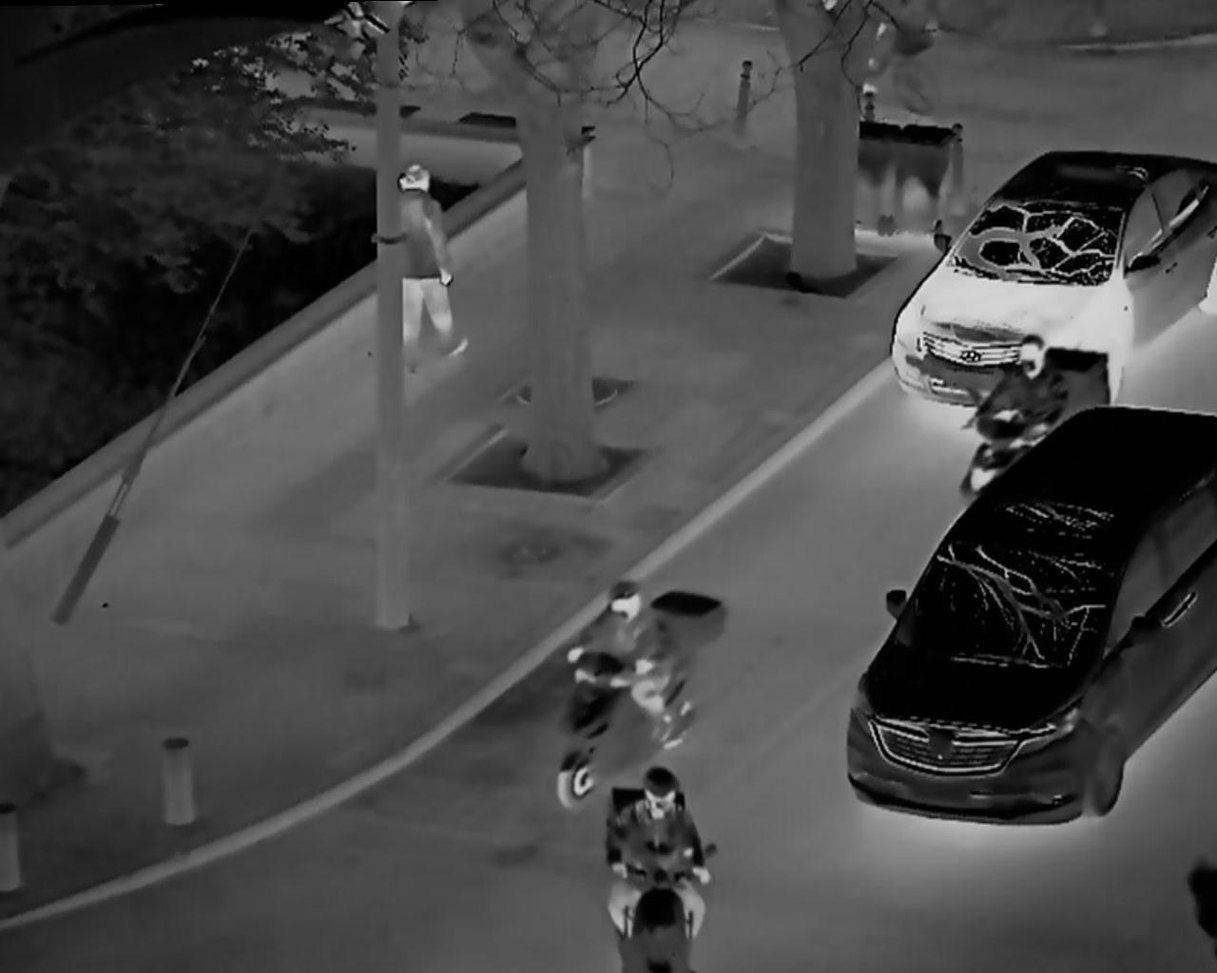person: (589, 759, 724, 966), (561, 561, 692, 765), (384, 158, 475, 370), (969, 330, 1074, 467)
